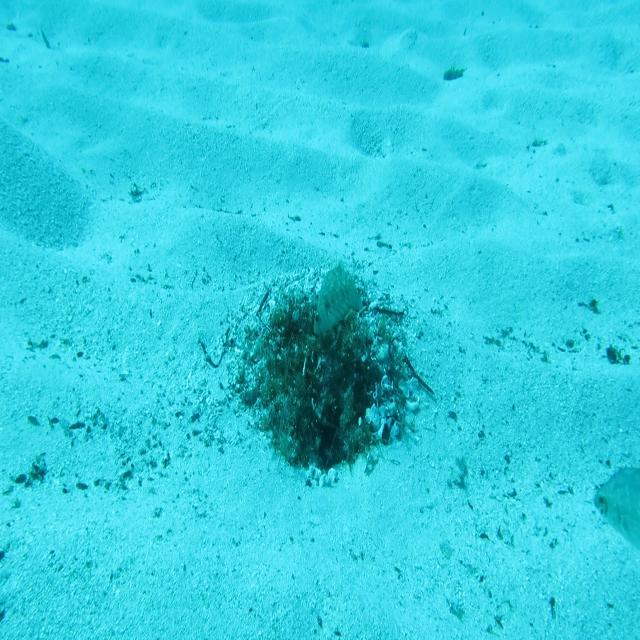INSF: (311, 256, 364, 339)
core_nest: (296, 318, 344, 362)
female: (591, 464, 640, 555)
nest: (216, 260, 425, 490)
vegetation: (442, 64, 467, 85)
